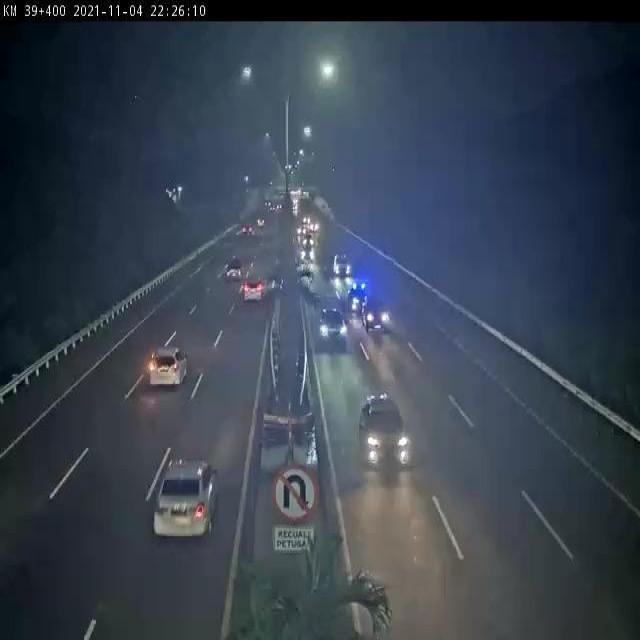car: (148, 442, 225, 542), (353, 386, 417, 474), (146, 333, 198, 392), (312, 299, 353, 353), (359, 304, 395, 341), (343, 272, 370, 307), (239, 275, 267, 308)
